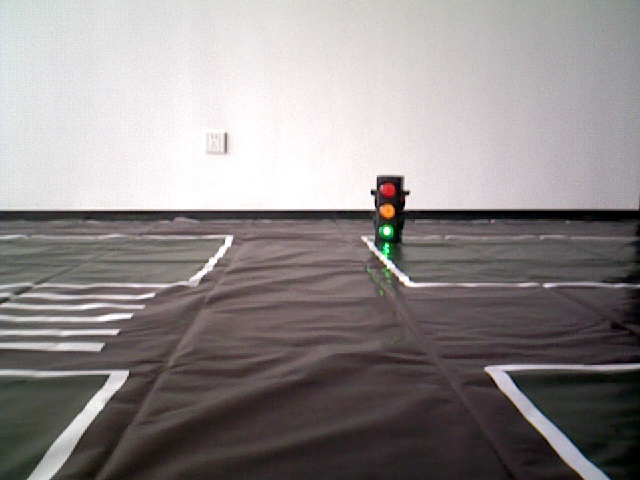green: (374, 176, 398, 238)
